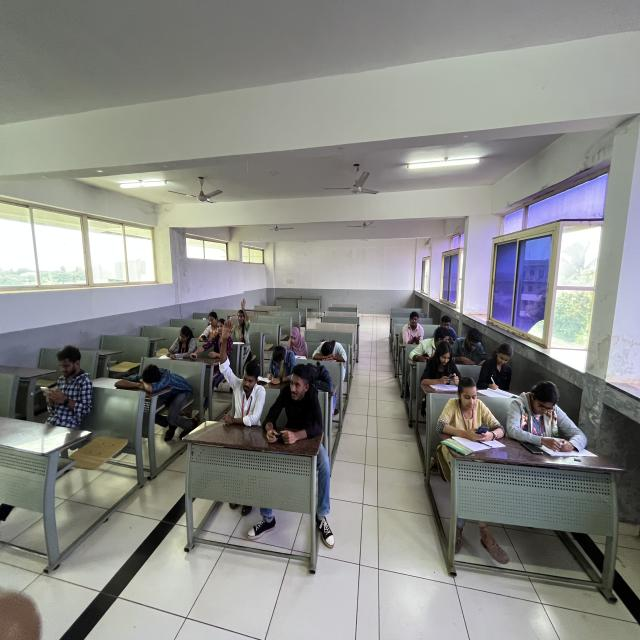Hand Rising: (214, 314, 266, 430), (231, 296, 253, 342)
Reading: (505, 372, 599, 469), (283, 316, 309, 359)
Sleeping: (308, 330, 349, 366), (305, 362, 336, 390)
Using Phone: (430, 372, 506, 467), (423, 341, 469, 386), (452, 324, 492, 366), (198, 308, 220, 342)
Writing: (480, 337, 524, 399), (264, 338, 298, 385), (167, 318, 197, 360)
